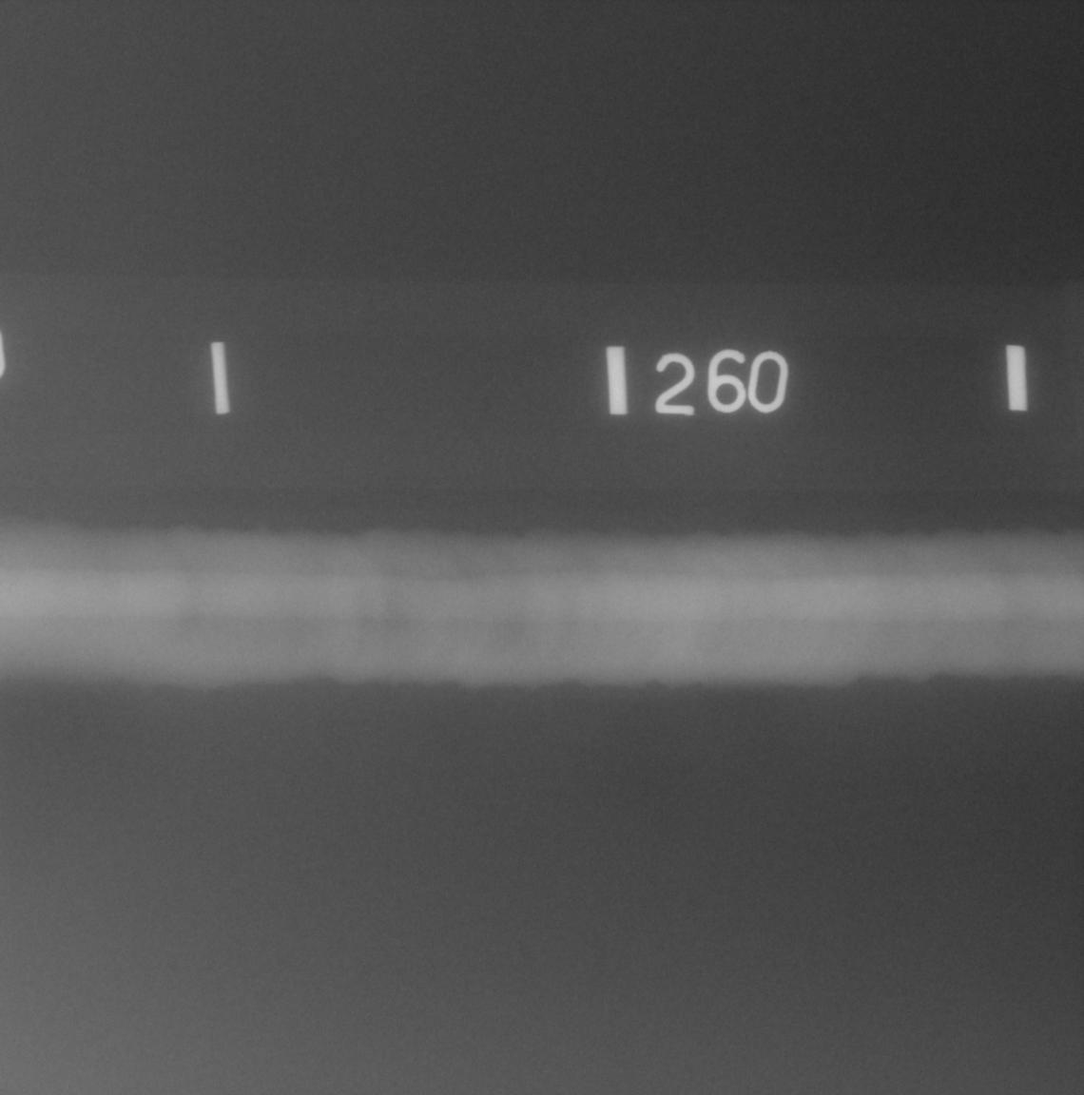Pore/Porosity: (902, 551, 907, 557)
